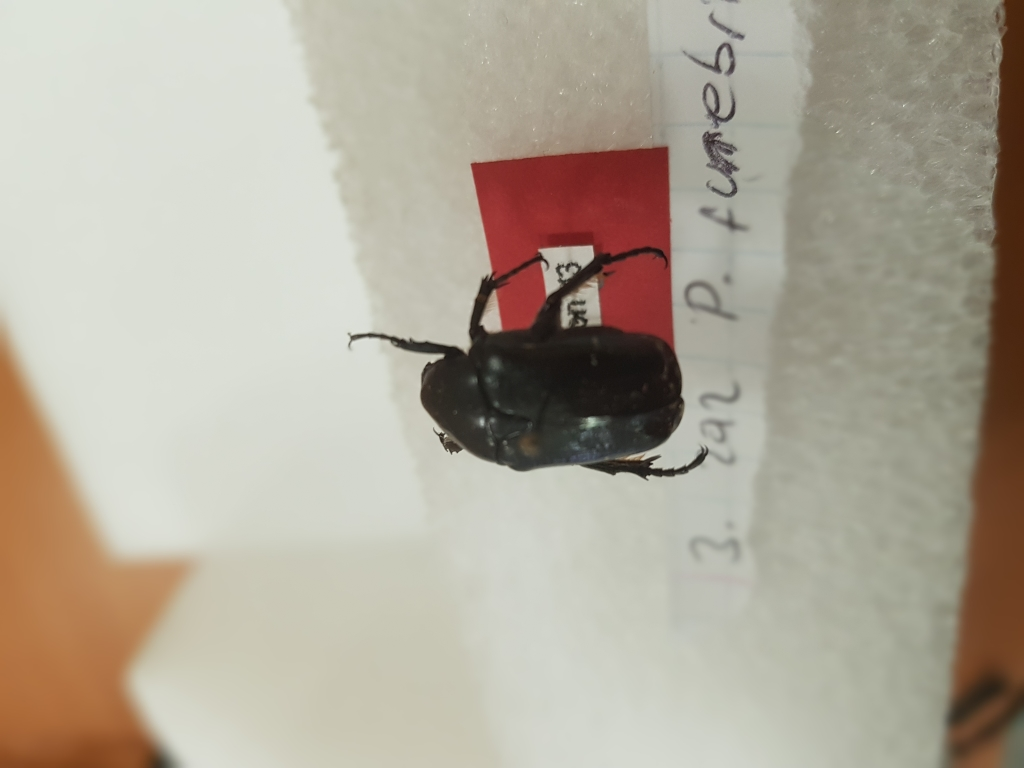Protaetia_funebris_funebris: (330, 227, 747, 498)
